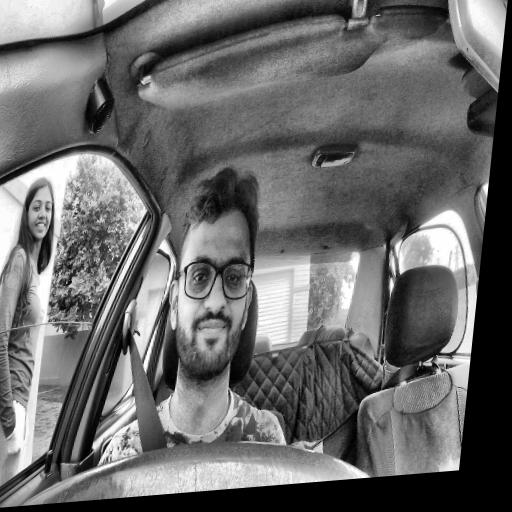awake: (159, 160, 268, 382)
